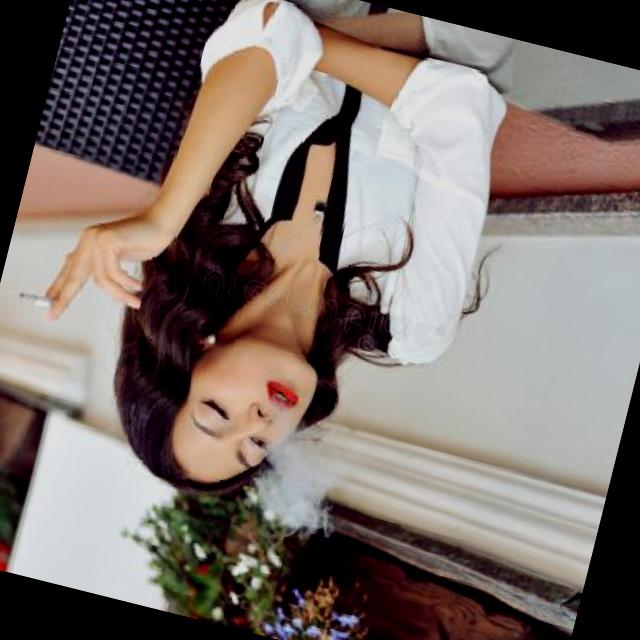cigarette: (0, 274, 78, 331)
